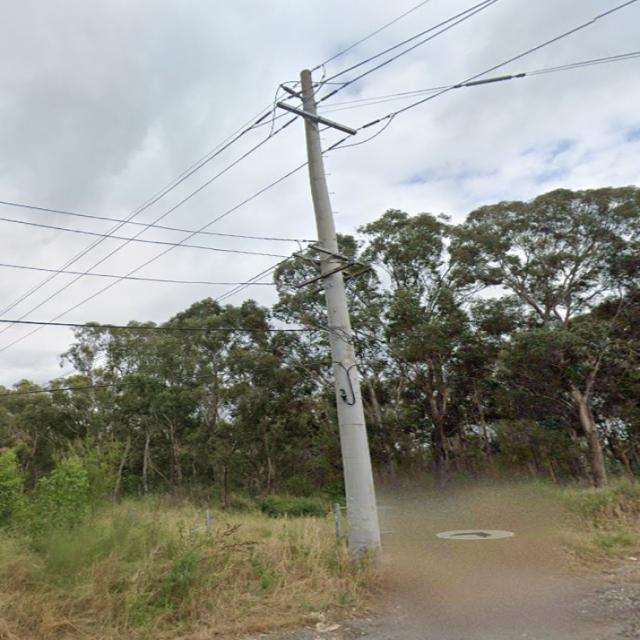HV-transmission: (248, 63, 395, 149)
concrete-pole: (299, 69, 382, 556)
crossarm: (276, 102, 357, 136), (295, 261, 354, 289), (312, 266, 373, 292), (290, 252, 350, 276), (307, 243, 364, 266)
